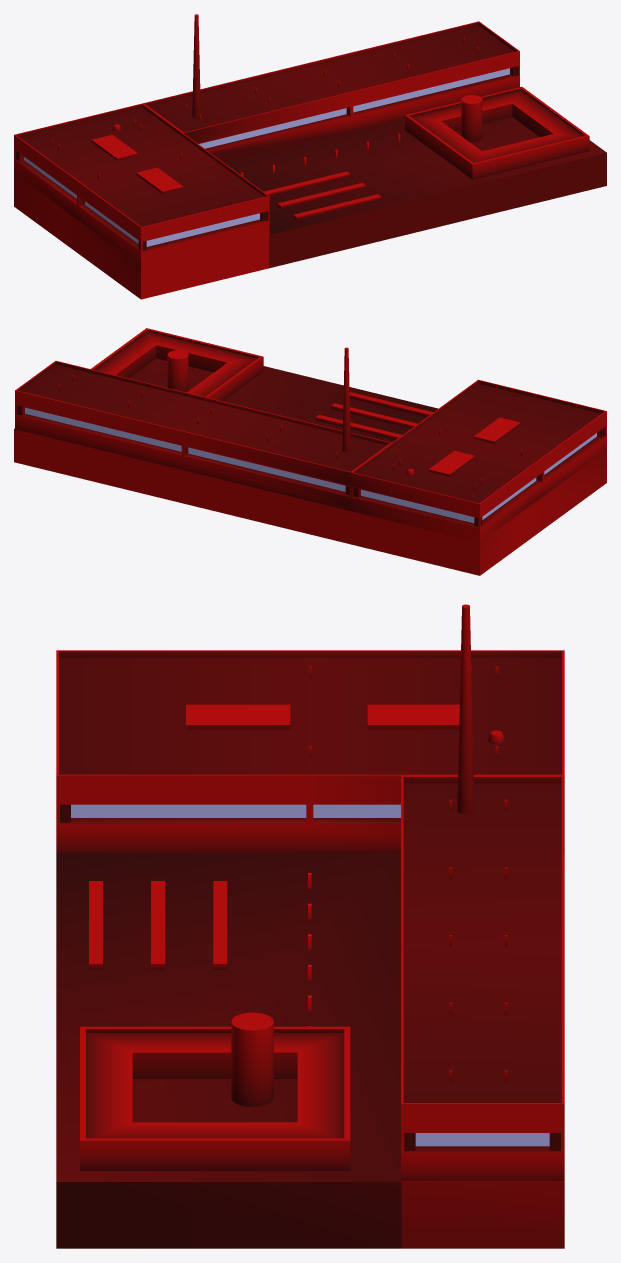
File: buildings-industrial-industrialbuilding_v6.fbx
3 renders of one model, top to bottom at view 1: azimuth 30°, elevation 25°; view 2: azimuth 150°, elevation 25°; view 3: azimuth 270°, elevation 25°, orthographic. The views are drawn at different scales.
Visible parts, largest first — view 1: IndustrialBuilding_v6_base, IndustrialBuilding_v6_windowRefl; view 2: IndustrialBuilding_v6_base, IndustrialBuilding_v6_windowRefl; view 3: IndustrialBuilding_v6_base, IndustrialBuilding_v6_windowRefl.
Boxes of the visible parts, box(x1,y1,x2,y2) form: IndustrialBuilding_v6_base: box(14, 14, 606, 299); IndustrialBuilding_v6_windowRefl: box(24, 68, 509, 246); IndustrialBuilding_v6_base: box(14, 328, 606, 575); IndustrialBuilding_v6_windowRefl: box(25, 407, 596, 523); IndustrialBuilding_v6_base: box(56, 604, 564, 1248); IndustrialBuilding_v6_windowRefl: box(71, 804, 549, 1146).
Size of the model in its own units: 49.07 by 17.2 by 23.18.
